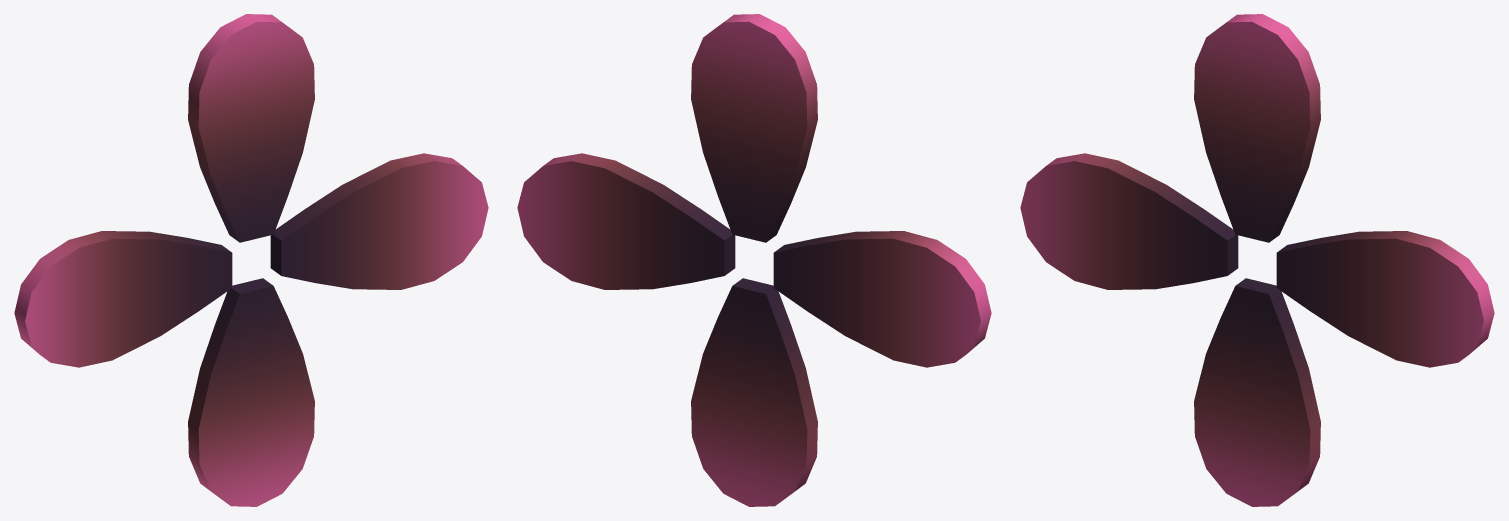
File: SM_Fan_Vent.fbx
3 views of the same model, side by side, from view 1: azimuth 30°, elevation 25°; view 2: azimuth 150°, elevation 25°; view 3: azimuth 330°, elevation 25° (orthographic).
Visible parts, largest first — view 1: SM_Fan_Vent; view 2: SM_Fan_Vent; view 3: SM_Fan_Vent.
Boxes of the visible parts, x1,y1,x2,y2 form: SM_Fan_Vent: [14, 14, 488, 506]; SM_Fan_Vent: [517, 14, 991, 506]; SM_Fan_Vent: [1020, 14, 1494, 506].
Size of the model in its own units: 117 by 117 by 4.66.
